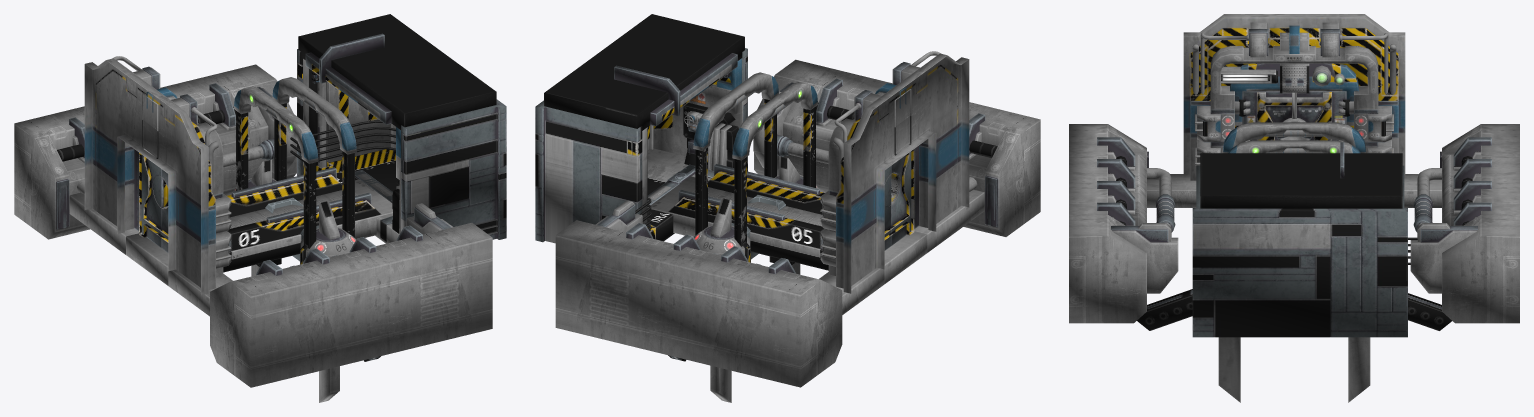
3 renders of one model, left to right at view 1: azimuth 30°, elevation 25°; view 2: azimuth 150°, elevation 25°; view 3: azimuth 270°, elevation 25°, orthographic. The views are drawn at different scales.
Parts seen in each view (by area): view 1: mur_encadrement_low, porte_09_low, plafond_low, mur_piece_low, pont_arche_low, pont_rambarde_low, sol_low, pont_low, props_tuyau_02_low, mur_bottom_low, porte_01_low, props_array_low (+5 smaller); view 2: mur_encadrement_low, porte_09_low, plafond_low, mur_piece_low, pont_arche_low, pont_rambarde_low, pont_low, sol_low, mur_front_low, porte_01_low, props_array_low, porte_10_low (+8 smaller); view 3: mur_piece_low, mur_encadrement_low, porte_09_low, plafond_low, pont_arche_low, mur_encadrement_01_low, props_array_low, porte_10_low, porte_03_low, porte_05_low, tuyau_encadrement_low, porte_02_low (+5 smaller).
Boxes of the visible parts, box(x1,y1,x2,y2) form: mur_encadrement_low: box(14, 64, 492, 387); porte_09_low: box(84, 58, 223, 295); plafond_low: box(298, 14, 496, 129); mur_piece_low: box(297, 49, 506, 239); pont_arche_low: box(233, 77, 380, 402); pont_rambarde_low: box(226, 167, 381, 251); sol_low: box(69, 149, 399, 316); pont_low: box(126, 179, 392, 285); props_tuyau_02_low: box(57, 33, 395, 161); mur_bottom_low: box(303, 59, 390, 165); porte_01_low: box(134, 149, 168, 252); props_array_low: box(69, 83, 422, 275); mur_encadrement_low: box(555, 59, 1040, 387); porte_09_low: box(828, 53, 969, 293); plafond_low: box(544, 14, 744, 130); mur_piece_low: box(535, 48, 747, 243); pont_arche_low: box(668, 72, 818, 402); pont_rambarde_low: box(668, 164, 825, 249); pont_low: box(647, 176, 927, 283); sol_low: box(647, 148, 984, 314); mur_front_low: box(653, 58, 741, 165); porte_01_low: box(884, 146, 918, 250); props_array_low: box(626, 78, 985, 273); porte_10_low: box(833, 51, 940, 240); mur_piece_low: box(1192, 165, 1407, 337); mur_encadrement_low: box(1069, 124, 1519, 323); porte_09_low: box(1183, 14, 1405, 180); plafond_low: box(1200, 153, 1402, 208); pont_arche_low: box(1137, 122, 1451, 402); mur_encadrement_01_low: box(1111, 223, 1477, 293); props_array_low: box(1097, 137, 1491, 225); porte_10_low: box(1192, 22, 1396, 140); porte_03_low: box(1195, 66, 1393, 165); porte_05_low: box(1277, 25, 1344, 139); tuyau_encadrement_low: box(1147, 168, 1441, 237); porte_02_low: box(1230, 63, 1358, 127).
Size of what is drawn, in the model's own units: 0.371 by 0.3663 by 0.4742.
